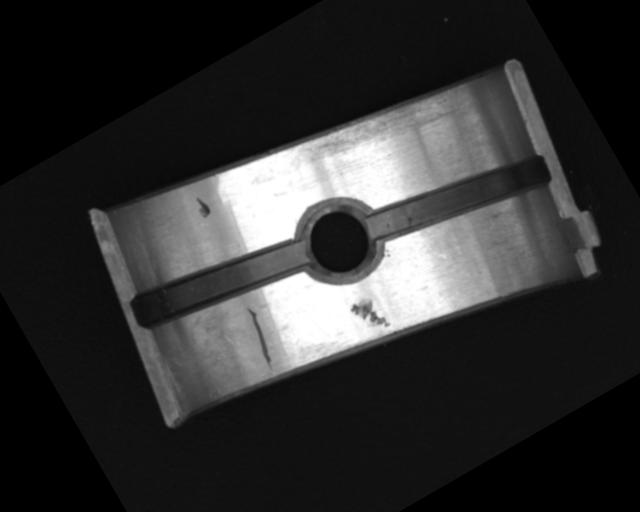bruise: (346, 290, 393, 339), (191, 193, 213, 221)
gap: (360, 124, 554, 271), (128, 212, 312, 350)
hole: (282, 182, 392, 294)
nick: (236, 304, 284, 372)
scratch: (291, 68, 453, 191)
